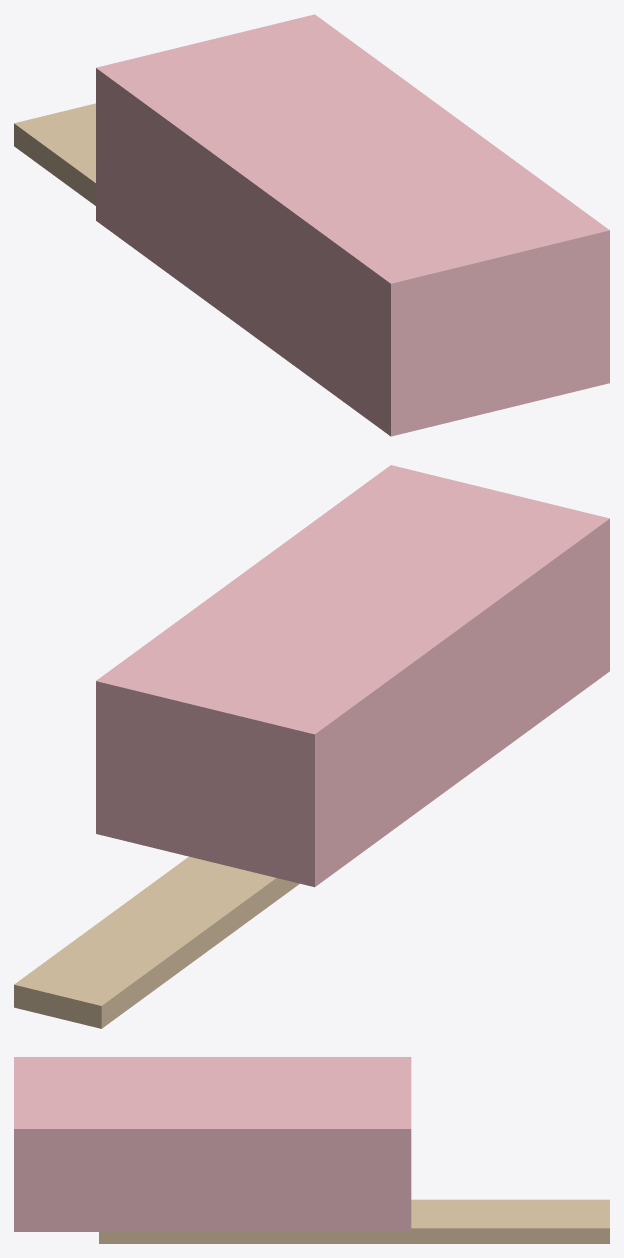
Rendered from item_48_popsicle.glb.
3 renders of one model, top to bottom at view 1: azimuth 30°, elevation 25°; view 2: azimuth 150°, elevation 25°; view 3: azimuth 270°, elevation 25°, orthographic. The views are drawn at different scales.
Parts seen in each view (by area): view 1: I48_Ice, I48_Stick; view 2: I48_Ice, I48_Stick; view 3: I48_Ice, I48_Stick.
Boxes of the visible parts, left/top/right/bottom form: I48_Ice: left=96, top=14, right=609, bottom=436; I48_Stick: left=14, top=103, right=95, bottom=205; I48_Ice: left=96, top=465, right=609, bottom=887; I48_Stick: left=14, top=856, right=299, bottom=1028; I48_Ice: left=14, top=1057, right=411, bottom=1231; I48_Stick: left=99, top=1199, right=609, bottom=1243.
Size of the model in its own units: 0.03 by 0.0265 by 0.105.
